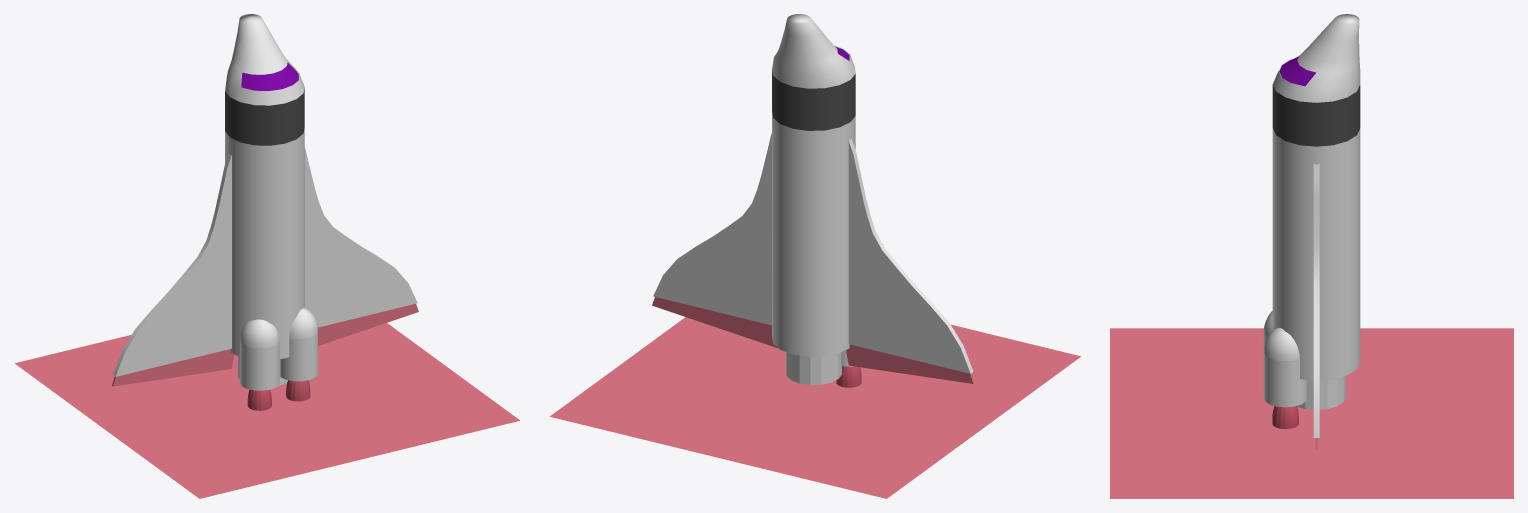
The model's file is zone1Landmark_pink.fbx.
The picture shows the model from 3 angles, left to right: view 1: azimuth 30°, elevation 25°; view 2: azimuth 150°, elevation 25°; view 3: azimuth 270°, elevation 25°; orthographic projection. The views are drawn at different scales.
Parts seen in each view (by area): view 1: space, ten_ten4; view 2: space, ten_ten4; view 3: ten_ten4, space.
Part boxes in pixels (bbox=[...]): space: bbox=[112, 14, 418, 410]; ten_ten4: bbox=[15, 323, 519, 498]; space: bbox=[652, 14, 974, 387]; ten_ten4: bbox=[550, 317, 1080, 498]; ten_ten4: bbox=[1110, 328, 1513, 498]; space: bbox=[1263, 14, 1360, 449].
Bounding box in the file's own units: 10 × 10.77 × 10.
